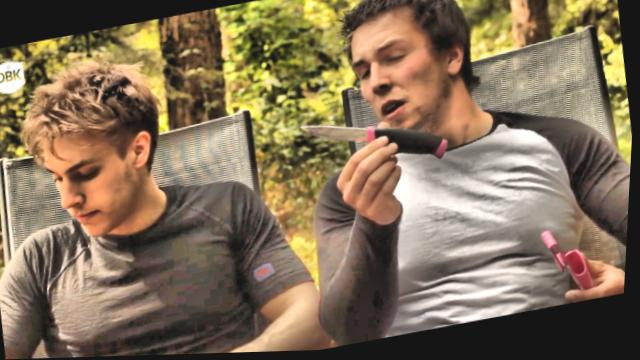knife: (294, 93, 459, 195)
